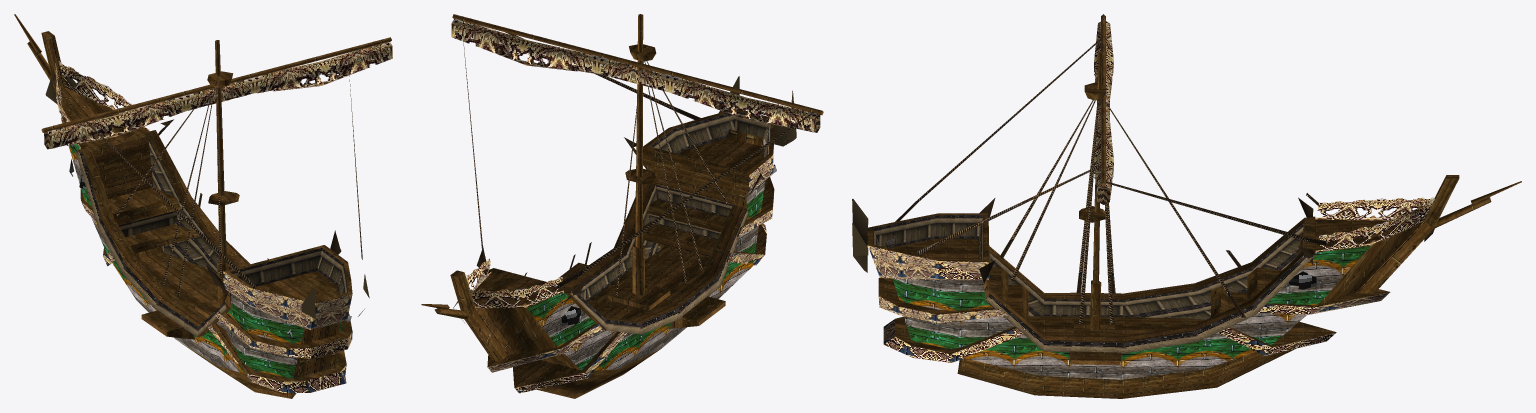
Rendered from Ship01.obj.
3 renders of one model, left to right at view 1: azimuth 30°, elevation 25°; view 2: azimuth 150°, elevation 25°; view 3: azimuth 270°, elevation 25°, orthographic. The views are drawn at different scales.
Parts seen in each view (by area): view 1: Mesh_0, Mesh_2, Mesh_9, Mesh_3, Mesh_1, Mesh_7, Mesh_5, Mesh_4; view 2: Mesh_0, Mesh_2, Mesh_9, Mesh_1, Mesh_7, Mesh_3, Mesh_5, Mesh_4, Mesh_6; view 3: Mesh_0, Mesh_1, Mesh_2, Mesh_3, Mesh_7, Mesh_5, Mesh_4, Mesh_9, Mesh_6.
Boxes of the visible parts, x1,y1,x2,y2 form: Mesh_0: (14, 14, 391, 398); Mesh_2: (75, 135, 347, 336); Mesh_9: (47, 42, 392, 148); Mesh_3: (81, 201, 352, 392); Mesh_1: (68, 144, 341, 378); Mesh_7: (85, 61, 362, 297); Mesh_5: (55, 61, 149, 148); Mesh_4: (45, 68, 369, 334); Mesh_0: (421, 14, 823, 398); Mesh_2: (570, 111, 771, 334); Mesh_9: (451, 18, 816, 132); Mesh_1: (527, 129, 766, 370); Mesh_7: (461, 22, 813, 296); Mesh_3: (487, 142, 774, 393); Mesh_5: (466, 258, 563, 308); Mesh_4: (453, 76, 796, 336); Mesh_6: (481, 108, 789, 288); Mesh_0: (867, 14, 1521, 398); Mesh_1: (886, 238, 1370, 379); Mesh_2: (873, 215, 1314, 353); Mesh_3: (868, 245, 1390, 362); Mesh_7: (917, 38, 1306, 324); Mesh_5: (1315, 197, 1434, 252); Mesh_4: (852, 197, 1434, 289); Mesh_9: (1094, 21, 1113, 201); Mesh_6: (895, 193, 1326, 317).
Size of the model in its own units: 11.35 by 10.38 by 18.36.
10 materials, 10 textured.
